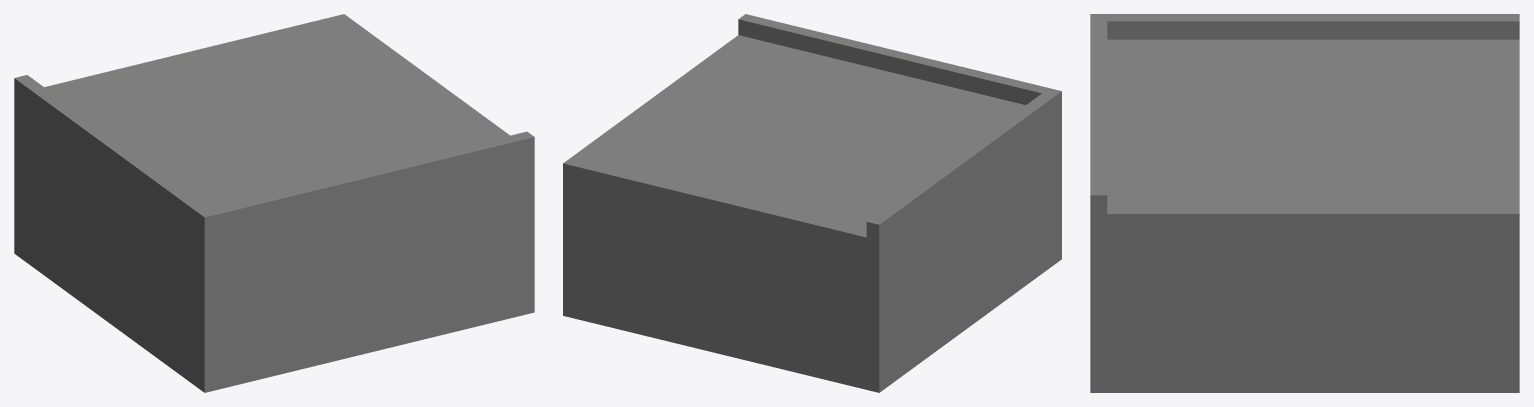
File: 4x2 roof (des)-2.obj
3 views of the same model, side by side, from view 1: azimuth 30°, elevation 25°; view 2: azimuth 150°, elevation 25°; view 3: azimuth 270°, elevation 25° (orthographic). The views are drawn at different scales.
Visible parts, largest first — view 1: 4x2 roof (des)-2; view 2: 4x2 roof (des)-2; view 3: 4x2 roof (des)-2.
Boxes of the visible parts, x1,y1,x2,y2 form: 4x2 roof (des)-2: [14, 14, 534, 392]; 4x2 roof (des)-2: [563, 14, 1061, 392]; 4x2 roof (des)-2: [1090, 14, 1519, 392].
Size of the model in its own units: 126 by 64 by 126.
1 material, 1 textured.
